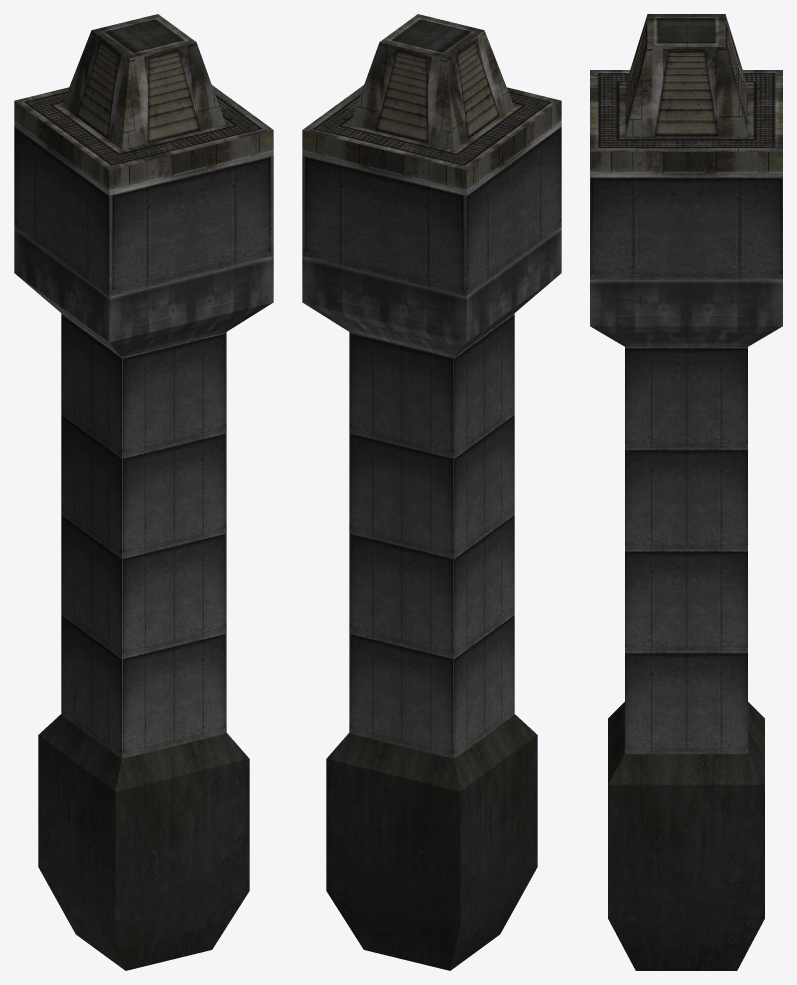
The model's file is doodad_ledge_corner.fbx.
3 views of the same model, side by side, from view 1: azimuth 30°, elevation 25°; view 2: azimuth 150°, elevation 25°; view 3: azimuth 270°, elevation 25° (orthographic).
Visible parts, largest first — view 1: pCube1; view 2: pCube1; view 3: pCube1.
Boxes of the visible parts, box(x1,y1,x2,y2) form: pCube1: box(14, 14, 273, 970); pCube1: box(302, 14, 561, 970); pCube1: box(590, 14, 782, 970).
Bounding box in the file's own units: 4 × 21.04 × 4.
1 material, 1 textured.
